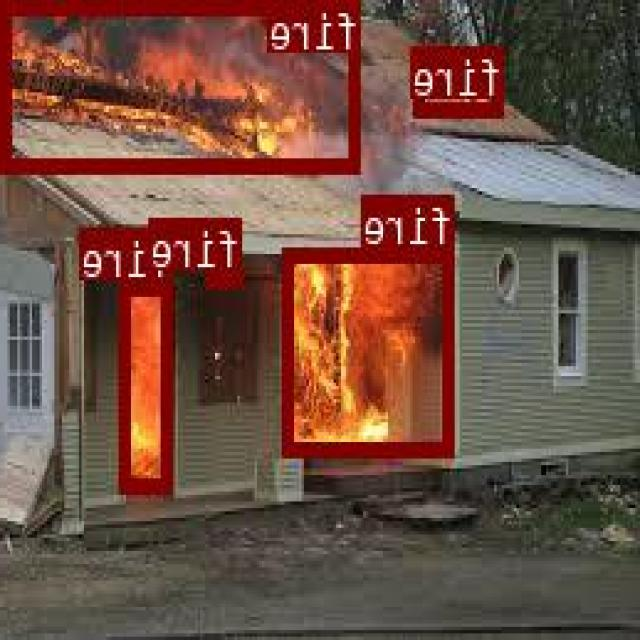fire: (5, 0, 363, 168), (286, 247, 456, 452), (122, 278, 174, 491), (418, 44, 507, 112), (208, 267, 244, 286)
